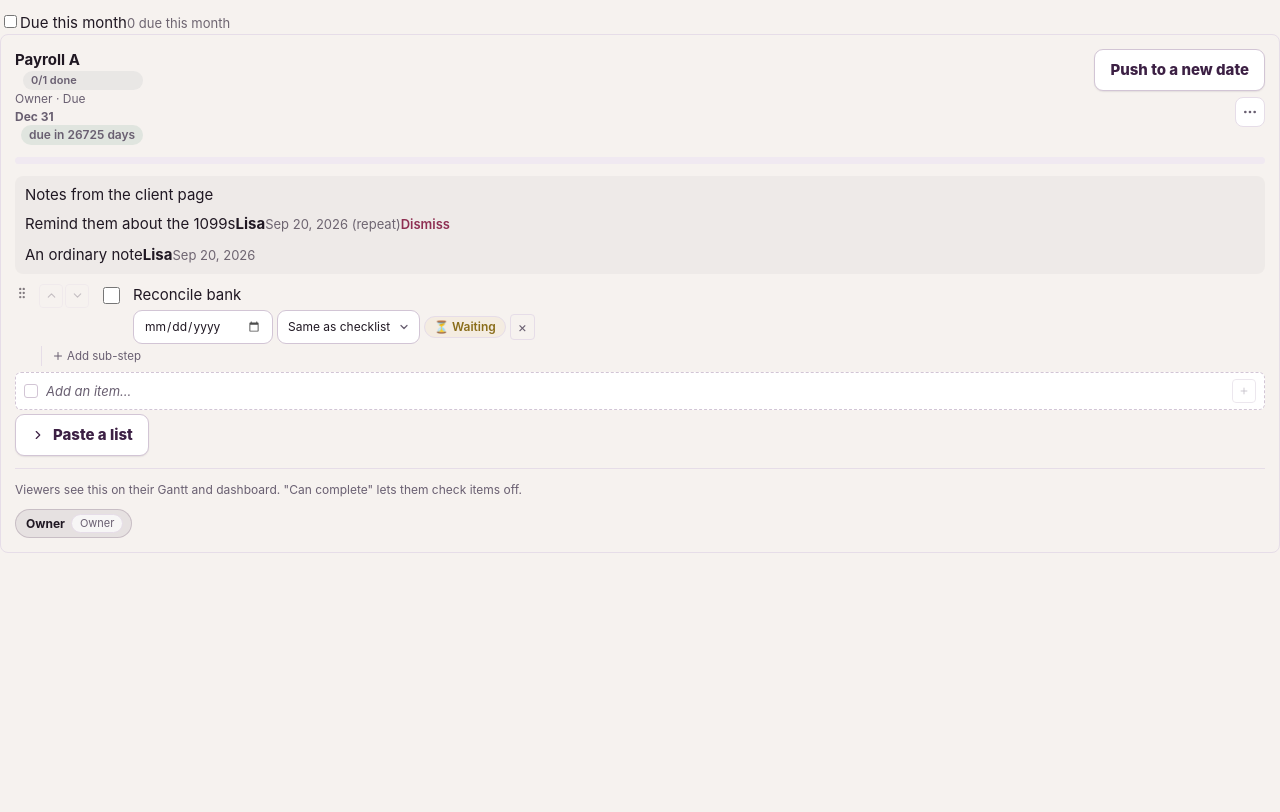
Scenario: Dismiss on the checklist card › shows the server's sentence under the note on a refusal, keeps the note, and raises no alert
This screenshot has width=1280, height=812.
Check: the text "Remind them about the 1099s" is shown, box [25,214,236,233]
Click the button "Dismiss". click: x=425, y=225
box: [401,211,450,238]
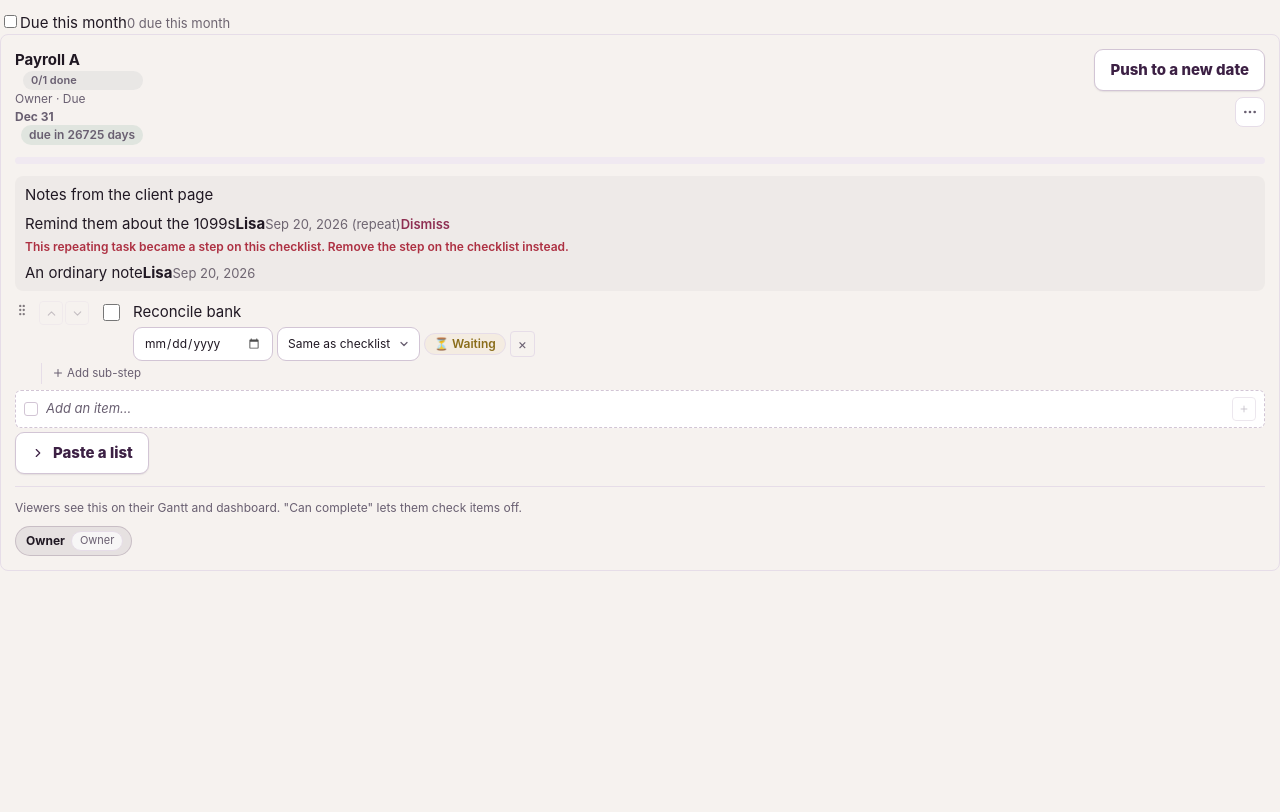
Check: the text "Remind them about the 1099s" is shown, box [25,214,236,233]
Check: the message shows "This repeating task became a step on this checklist. Remove the step on the checklist instead.", box [25,239,569,254]
